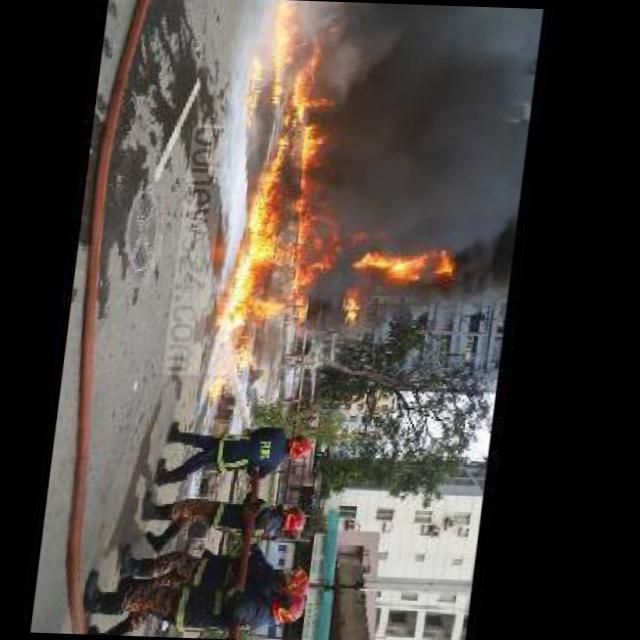Fire: (322, 3, 543, 258), (211, 0, 349, 406), (361, 246, 467, 282)
